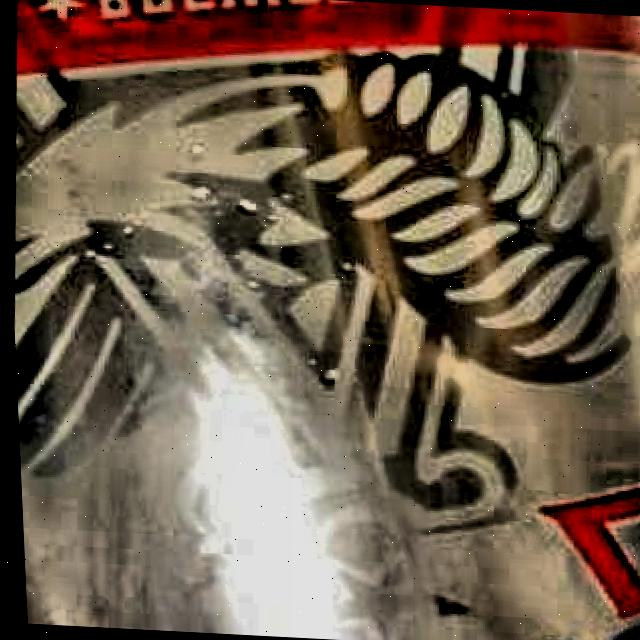metal: (11, 0, 640, 640)
